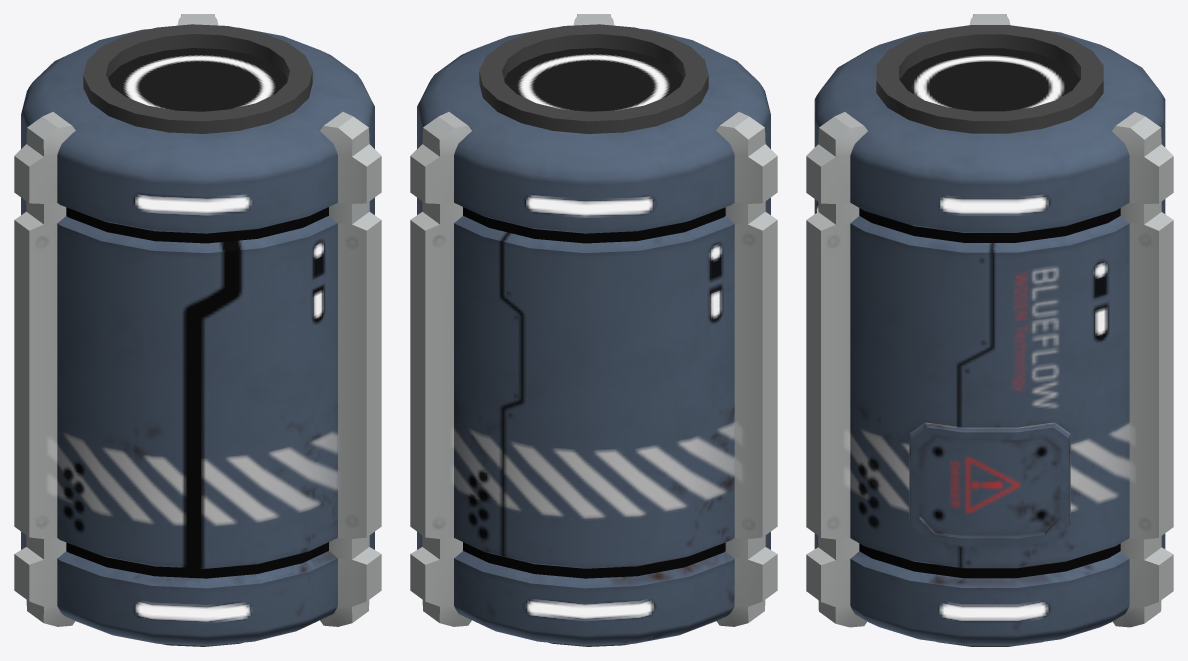
Rendered from Pfb_Soda_WarmKeeper__3.fbx.
3 renders of one model, left to right at view 1: azimuth 30°, elevation 25°; view 2: azimuth 150°, elevation 25°; view 3: azimuth 270°, elevation 25°, orthographic.
Visible parts, largest first — view 1: WarmKeeper_Blue; view 2: WarmKeeper_Blue; view 3: WarmKeeper_Blue.
Part boxes in pixels (box(x1,y1,x2,y2)): WarmKeeper_Blue: box(14, 14, 381, 646); WarmKeeper_Blue: box(410, 14, 777, 646); WarmKeeper_Blue: box(806, 14, 1173, 646).
Size of the model in its own units: 2.18 by 3.27 by 2.07.
1 material, 1 textured.
